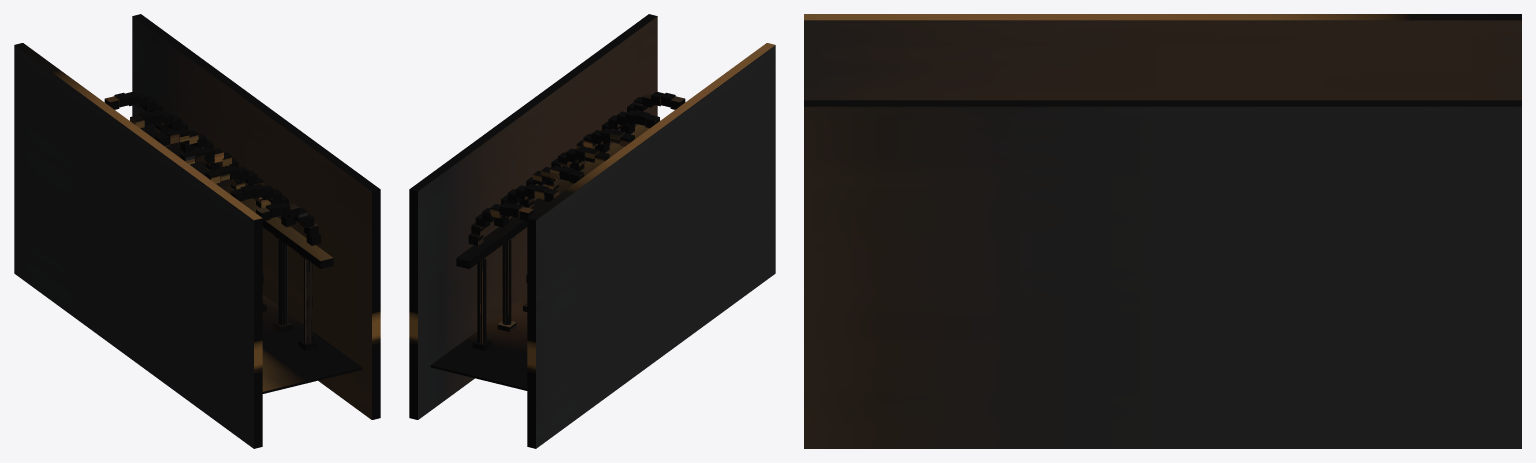
Rendered from hall.glb.
The picture shows the model from 3 angles, left to right: view 1: azimuth 30°, elevation 25°; view 2: azimuth 150°, elevation 25°; view 3: azimuth 270°, elevation 25°; orthographic projection. The views are drawn at different scales.
Visible parts, largest first — view 1: hall; view 2: hall; view 3: hall.
Part boxes in pixels (x1=…): hall: x1=14, y1=14, x2=380, y2=448; hall: x1=409, y1=14, x2=775, y2=448; hall: x1=804, y1=14, x2=1521, y2=448.
Bounding box in the file's own units: 23.2 × 40 × 76.
1 material, 1 textured.
